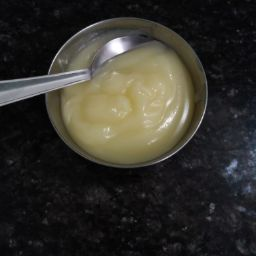Clarified Butter(ghee): (68, 41, 188, 152), (89, 81, 169, 141)
